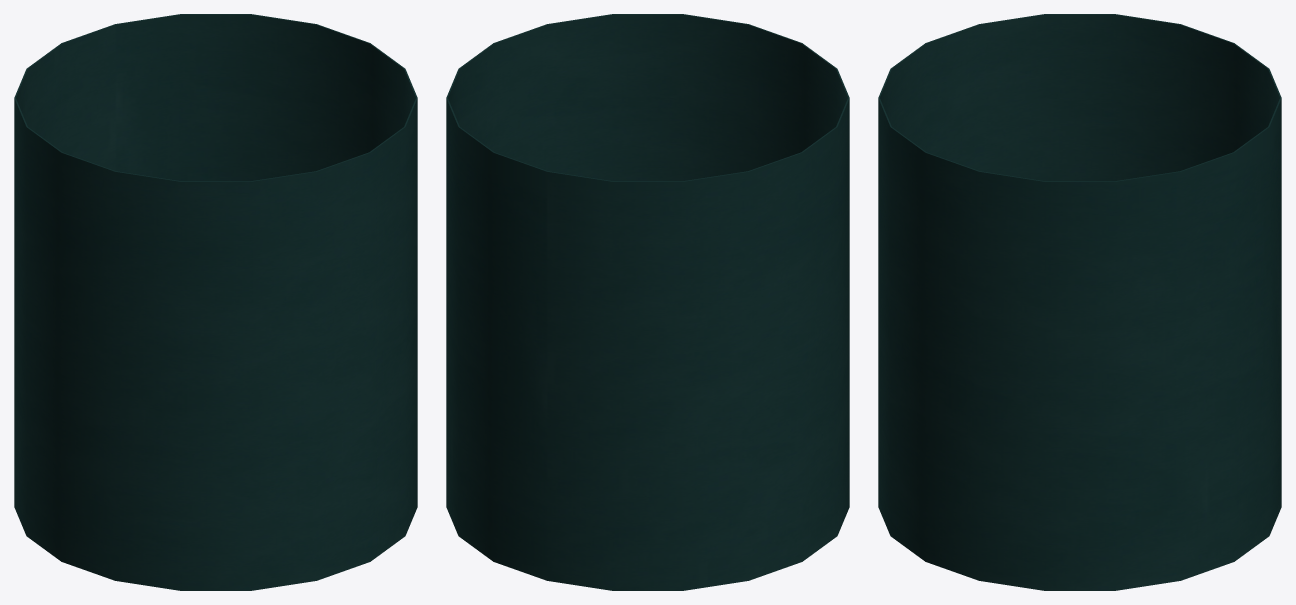
File: Fondo extendido.FBX
3 renders of one model, left to right at view 1: azimuth 30°, elevation 25°; view 2: azimuth 150°, elevation 25°; view 3: azimuth 270°, elevation 25°, orthographic.
Visible parts, largest first — view 1: Tube001; view 2: Tube001; view 3: Tube001.
Boxes of the visible parts, x1=… form: Tube001: x1=14, y1=14, x2=417, y2=590; Tube001: x1=446, y1=14, x2=849, y2=590; Tube001: x1=878, y1=14, x2=1281, y2=590.
Size of the model in its own units: 15806 by 17961 by 16050.
Materials: 1 (1 with a texture image).
